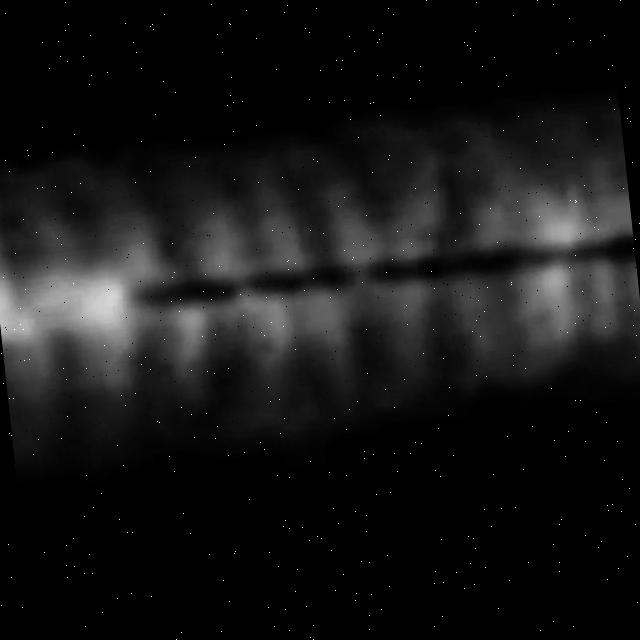LoP-LoF: (127, 202, 632, 341)
